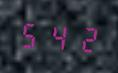five: (18, 17, 43, 51)
four: (45, 19, 70, 53)
two: (71, 20, 96, 55)
